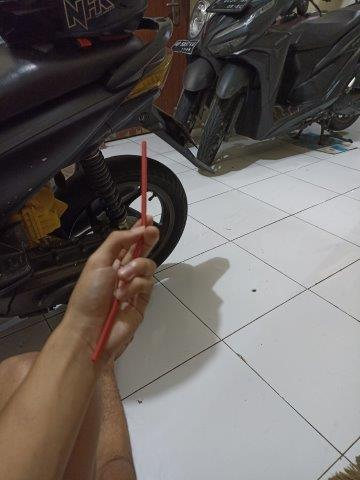sedotan: (91, 143, 148, 359)
